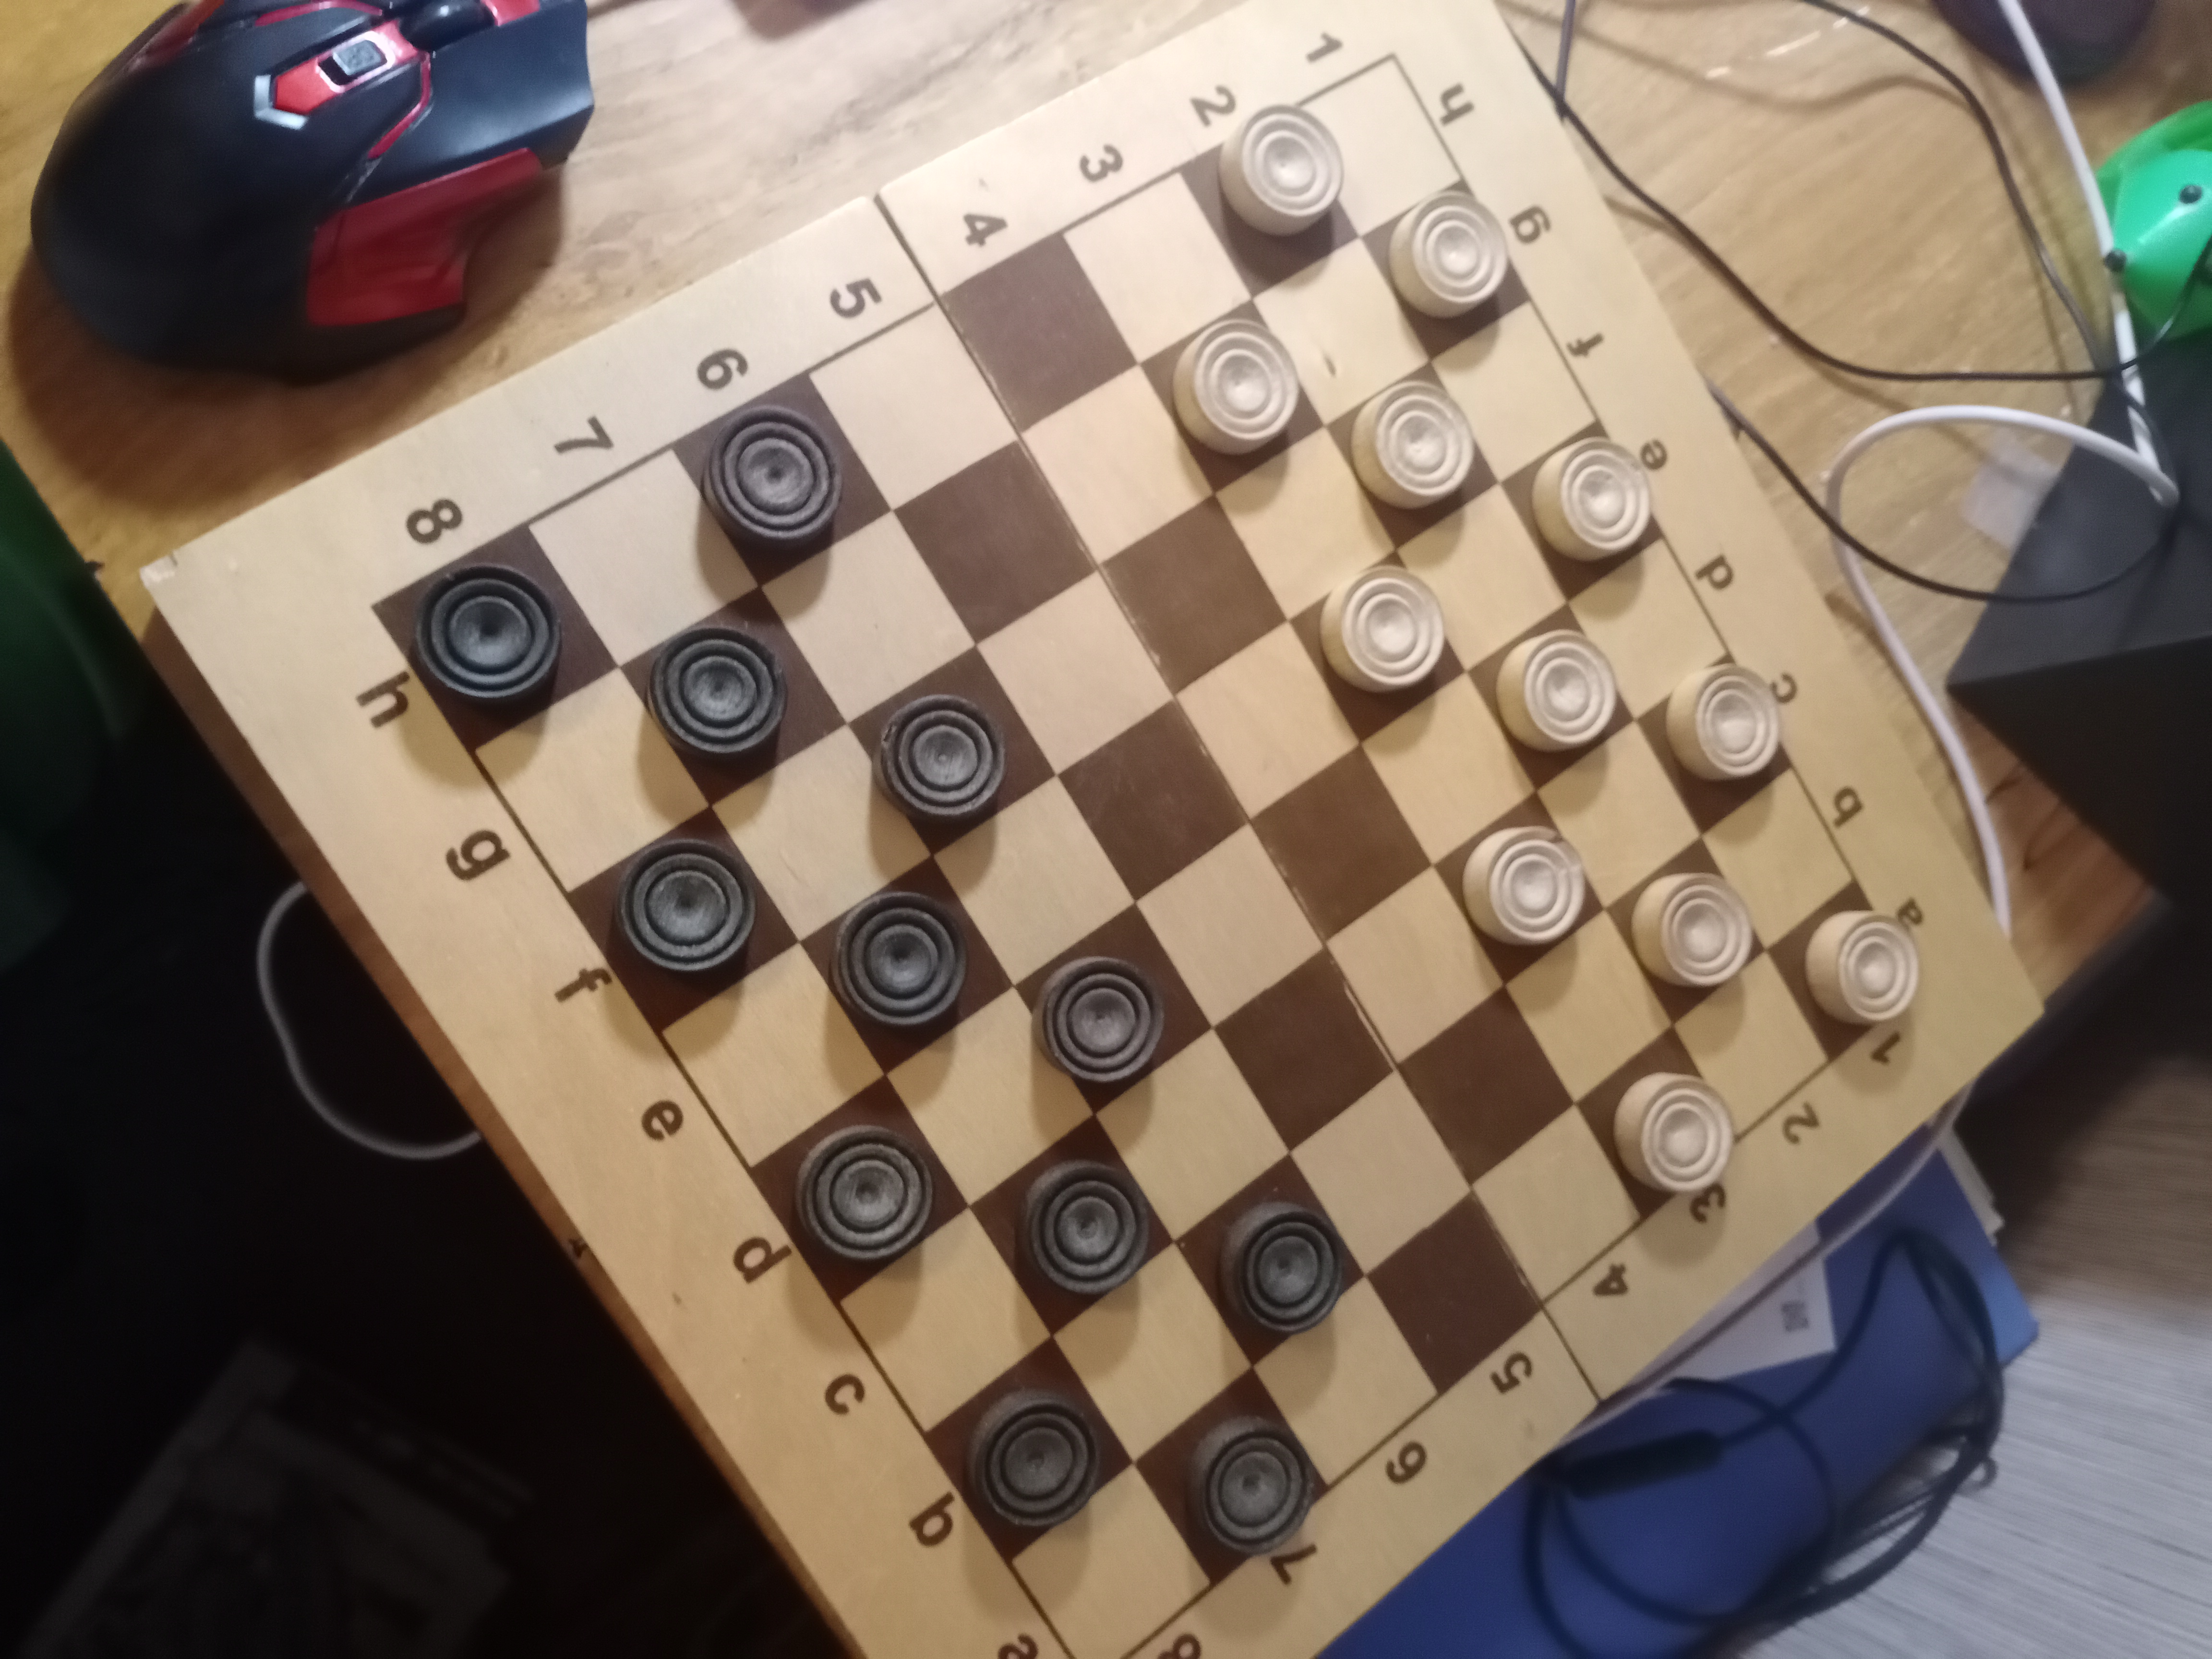White_Draught: (1139, 300, 1325, 493), (1181, 105, 1360, 298), (1289, 551, 1467, 744), (1324, 361, 1501, 551), (1467, 601, 1639, 793), (1435, 793, 1606, 985), (1575, 1025, 1738, 1218), (1360, 179, 1529, 361), (1606, 836, 1768, 1025), (1500, 418, 1663, 601), (1637, 650, 1792, 835), (1768, 880, 1921, 1063)
